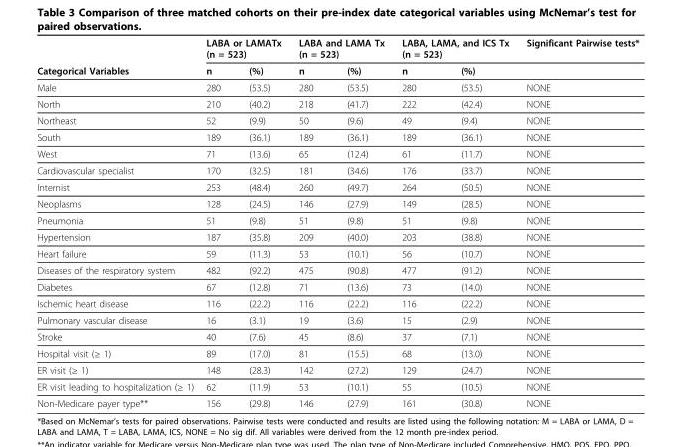table: (36, 36, 638, 408)
table column: (36, 36, 199, 408), (517, 36, 638, 408), (437, 36, 517, 408), (329, 36, 392, 408), (234, 36, 289, 408), (392, 36, 437, 408), (289, 36, 329, 408), (199, 36, 234, 408)
table column header: (36, 36, 638, 78)
table row: (36, 36, 638, 61), (36, 61, 638, 78), (36, 78, 638, 95), (36, 111, 638, 128), (36, 128, 638, 145), (36, 161, 638, 178), (36, 178, 638, 195), (36, 211, 638, 228), (36, 244, 638, 261), (36, 261, 638, 278), (36, 294, 638, 311), (36, 311, 638, 328), (36, 344, 638, 361), (36, 361, 638, 378), (36, 95, 638, 111), (36, 145, 638, 161), (36, 195, 638, 211), (36, 228, 638, 244), (36, 278, 638, 294), (36, 328, 638, 344), (36, 378, 638, 394), (36, 394, 638, 408)
table spanning cell: (36, 36, 199, 78), (517, 36, 638, 78), (392, 36, 517, 61), (289, 36, 392, 61), (199, 36, 289, 61)
